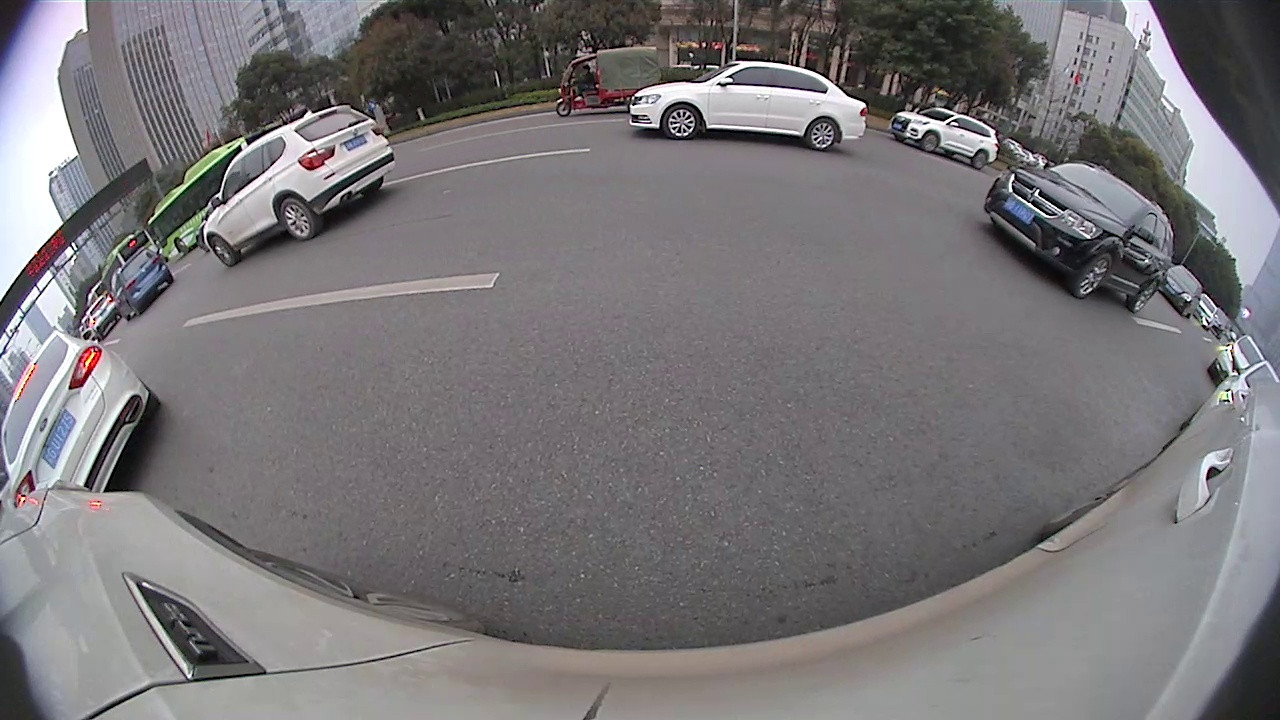car: (204, 102, 399, 269), (983, 156, 1177, 313), (1, 328, 161, 500), (625, 59, 872, 152), (888, 102, 1001, 172), (113, 240, 176, 319)
front: (1071, 252, 1113, 299), (662, 103, 702, 141), (207, 234, 236, 269), (919, 131, 938, 153), (553, 100, 573, 117)
rear: (276, 195, 319, 242), (804, 118, 838, 153), (1132, 278, 1158, 315), (969, 149, 988, 171)
rider: (555, 43, 666, 122)
